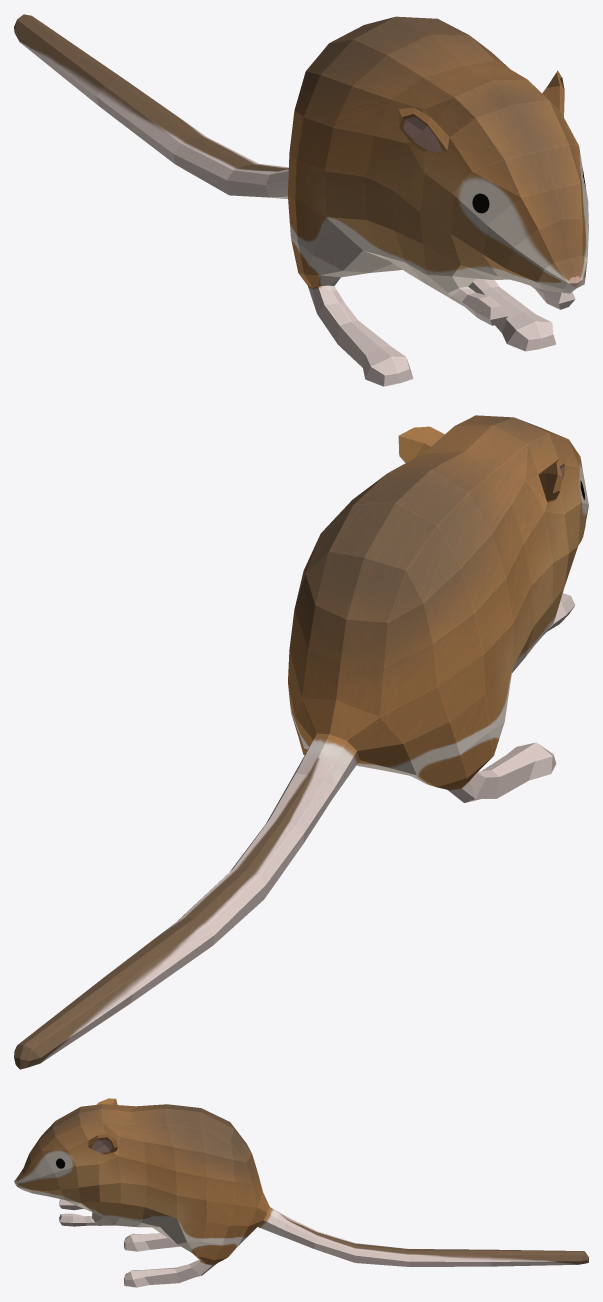
3 renders of one model, top to bottom at view 1: azimuth 30°, elevation 25°; view 2: azimuth 150°, elevation 25°; view 3: azimuth 270°, elevation 25°, orthographic. The views are drawn at different scales.
Visible parts, largest first — view 1: KangarooRats_Mesh; view 2: KangarooRats_Mesh; view 3: KangarooRats_Mesh.
Boxes of the visible parts, <box> form: KangarooRats_Mesh: <box>14,14,588,386</box>; KangarooRats_Mesh: <box>14,415,588,1069</box>; KangarooRats_Mesh: <box>14,1098,588,1287</box>.
Bounding box in the file's own units: 0.7944 × 1.19 × 4.
Materials: 1 (1 with a texture image).
